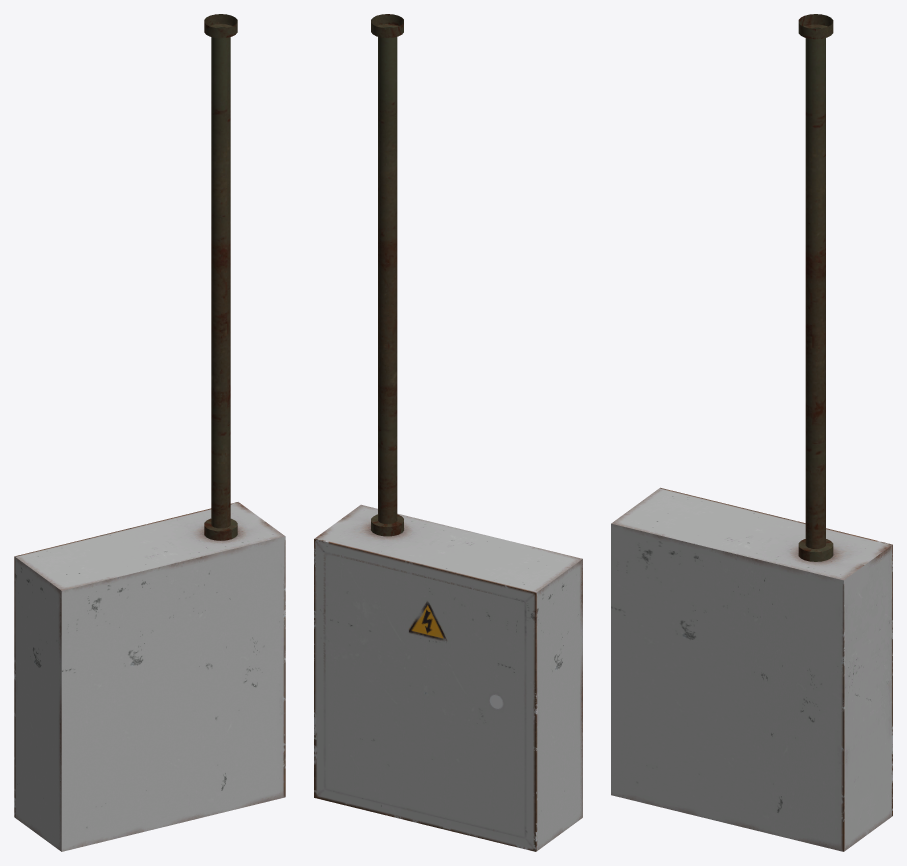
The model's file is Prop_ElectricBox_01.obj.
The picture shows the model from 3 angles, left to right: view 1: azimuth 30°, elevation 25°; view 2: azimuth 150°, elevation 25°; view 3: azimuth 330°, elevation 25°; orthographic projection. The views are drawn at different scales.
Visible parts, largest first — view 1: Prop_ElectricBox_01_0; view 2: Prop_ElectricBox_01_0; view 3: Prop_ElectricBox_01_0.
Part boxes in pixels (x1,y1,x2,y2): Prop_ElectricBox_01_0: (14, 14, 285, 851); Prop_ElectricBox_01_0: (314, 14, 582, 851); Prop_ElectricBox_01_0: (611, 14, 892, 851).
Size of the model in its own units: 0.8114 by 2.68 by 0.2962.
1 material, 1 textured.
